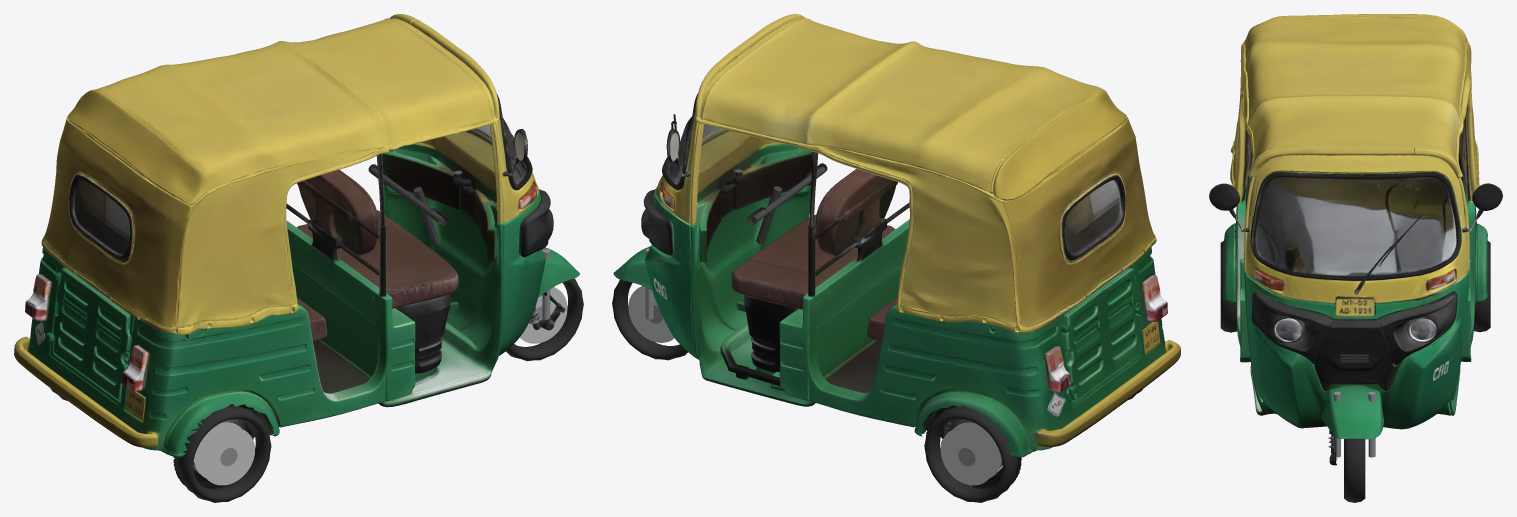
File: kekeh.v1.glb
3 renders of one model, left to right at view 1: azimuth 30°, elevation 25°; view 2: azimuth 150°, elevation 25°; view 3: azimuth 270°, elevation 25°, orthographic. The views are drawn at different scales.
Visible parts, largest first — view 1: kekeh_body, kekeh_tyre_rr, kekeh_tyre_f, kekeh_handlebar_mesh, kekeh_mudguard; view 2: kekeh_body, kekeh_tyre_rl, kekeh_tyre_f, kekeh_handlebar_mesh, kekeh_mudguard; view 3: kekeh_body, kekeh_mudguard, kekeh_tyre_f, kekeh_tyre_rr, kekeh_tyre_rl, kekeh_fork.
Boxes of the visible parts, x1,y1,x2,y2 form: kekeh_body: (14,14,579,488); kekeh_tyre_rr: (177,405,271,502); kekeh_tyre_f: (506,278,583,361); kekeh_handlebar_mesh: (368,164,448,245); kekeh_mudguard: (540,247,577,288); kekeh_body: (613,14,1180,488); kekeh_tyre_rl: (924,405,1017,502); kekeh_tyre_f: (612,279,687,360); kekeh_handlebar_mesh: (747,163,827,244); kekeh_mudguard: (617,246,650,285); kekeh_body: (1209,14,1502,465); kekeh_mudguard: (1321,367,1388,435); kekeh_tyre_f: (1344,438,1365,502); kekeh_tyre_rr: (1220,240,1237,332); kekeh_tyre_rl: (1474,240,1490,332); kekeh_fork: (1334,391,1375,457).
Size of the model in its own units: 2.66 by 1.68 by 1.44.
Materials: 6 (1 with a texture image).
